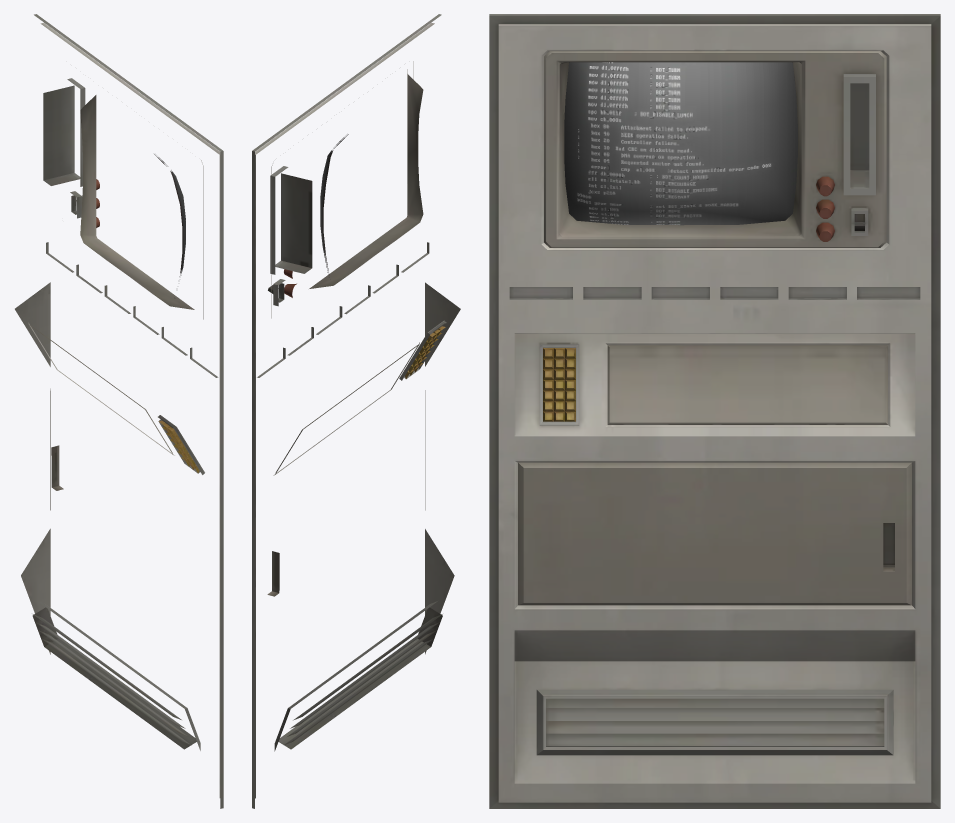
3 renders of one model, left to right at view 1: azimuth 30°, elevation 25°; view 2: azimuth 150°, elevation 25°; view 3: azimuth 270°, elevation 25°, orthographic. The views are drawn at different scales.
Parts seen in each view (by area): view 1: body0_model0_lod0_mesh0; view 2: body0_model0_lod0_mesh0; view 3: body0_model0_lod0_mesh0, body0_model0_lod0_mesh1.
Boxes of the visible parts, x1=… form: body0_model0_lod0_mesh0: x1=15, y1=14, x2=223, y2=808; body0_model0_lod0_mesh0: x1=252, y1=14, x2=460, y2=808; body0_model0_lod0_mesh0: x1=489, y1=14, x2=940, y2=808; body0_model0_lod0_mesh1: x1=564, y1=62, x2=797, y2=225.
Bounding box in the file's own units: 9.81 × 128 × 65.99.
Materials: 2 (2 with a texture image).
